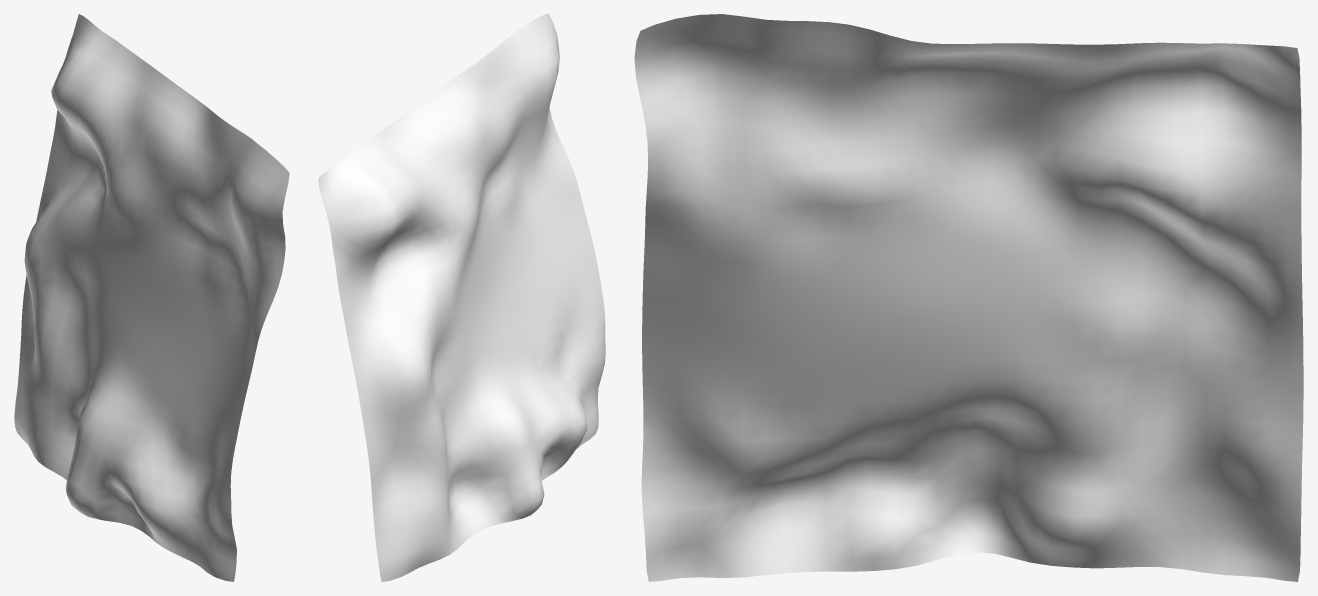
File: Ground.dae
3 renders of one model, left to right at view 1: azimuth 30°, elevation 25°; view 2: azimuth 150°, elevation 25°; view 3: azimuth 270°, elevation 25°, orthographic. The views are drawn at different scales.
Visible parts, largest first — view 1: Plane; view 2: Plane; view 3: Plane.
Boxes of the visible parts, bbox=[...] form: Plane: bbox=[14, 14, 289, 581]; Plane: bbox=[318, 14, 605, 581]; Plane: bbox=[634, 14, 1303, 581].
Size of the model in its own units: 11.58 by 38.23 by 38.18.
1 material, 1 textured.
